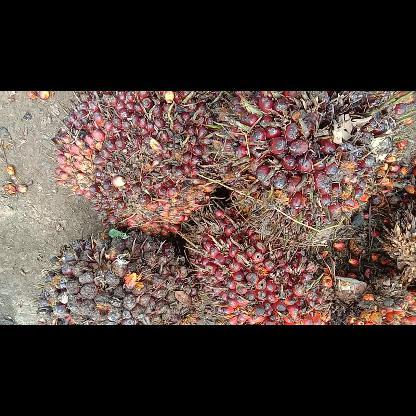Kurang masak: (31, 226, 202, 324)
TBS masak: (200, 90, 414, 250), (51, 91, 240, 239), (179, 200, 341, 324)
